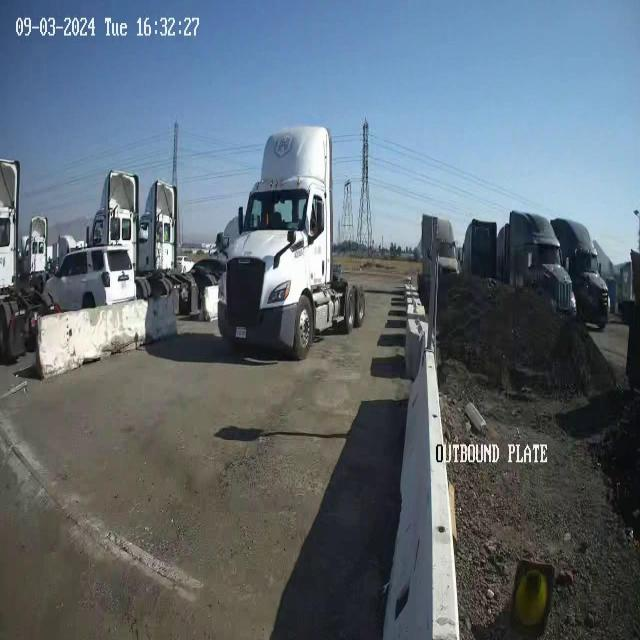BOBTAIL: (216, 124, 366, 361)
